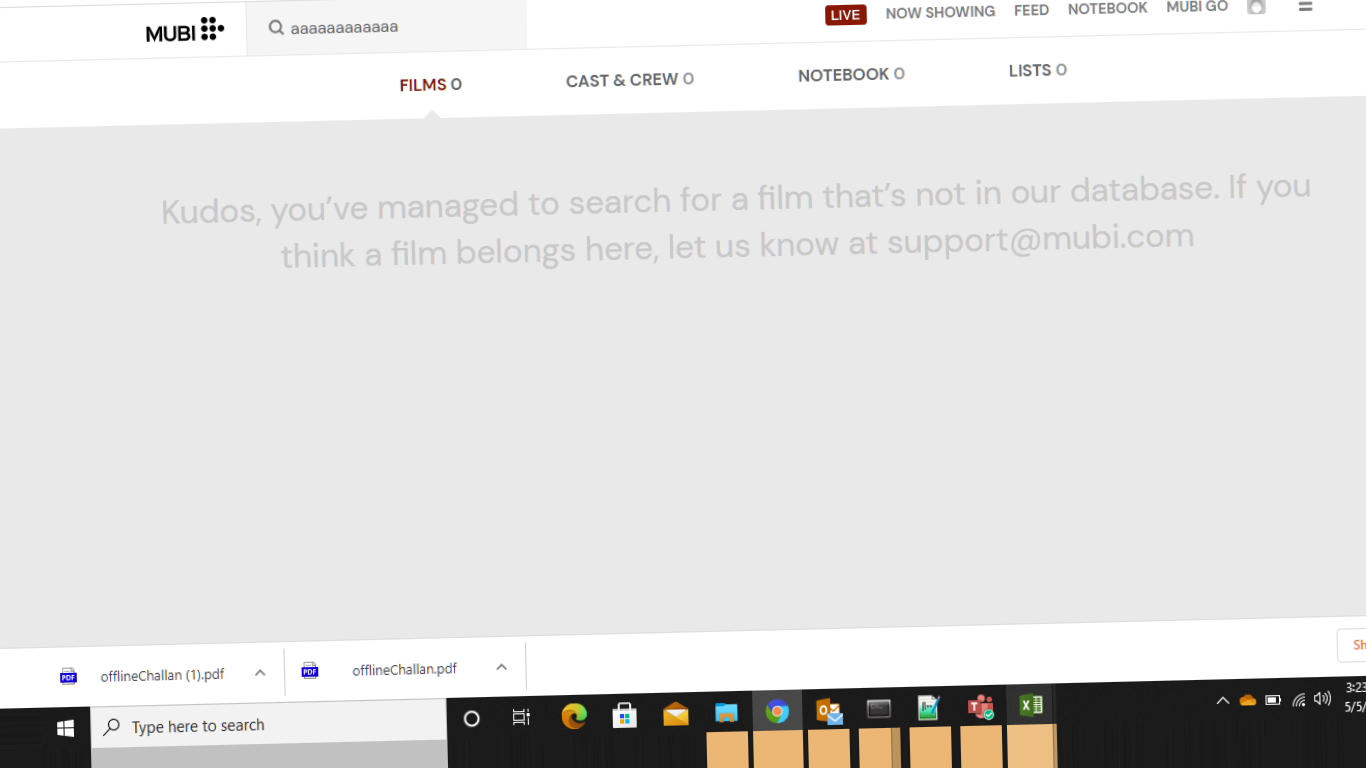noresultsfound: (138, 148, 1316, 288)
profileicon: (1241, 1, 1271, 19)
searchicon: (255, 12, 290, 48)
searchtextbox: (246, 4, 529, 59)
